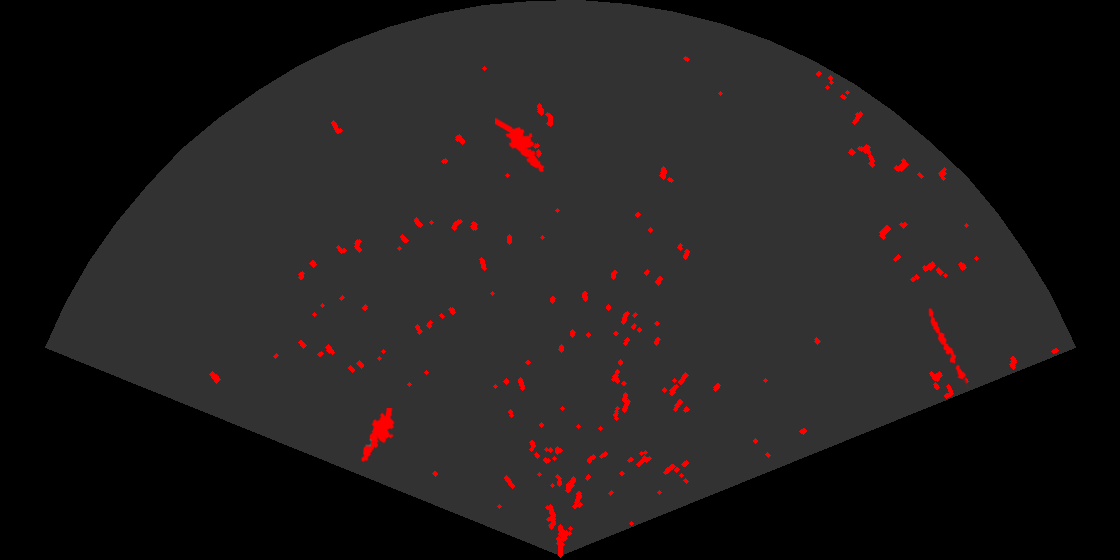chain: (927, 306, 970, 388)
frogman: (495, 118, 546, 174), (360, 408, 396, 464)
